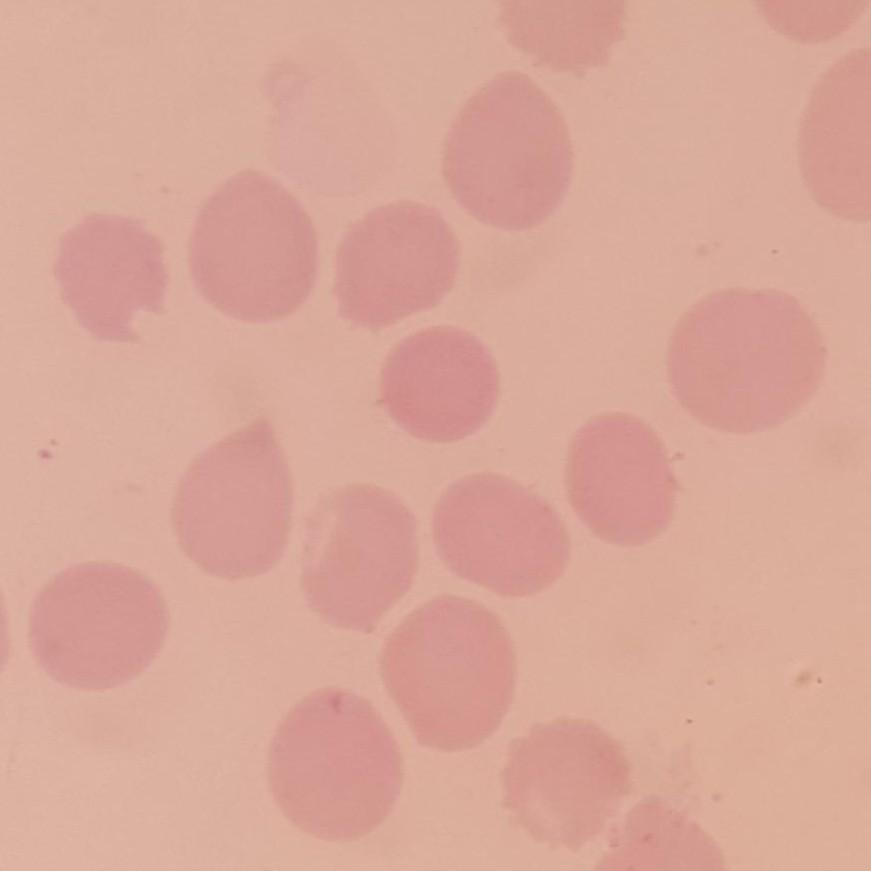Uninfected: (670, 285, 827, 432), (442, 69, 571, 232), (382, 597, 517, 752), (270, 683, 403, 840), (172, 411, 293, 576), (292, 487, 423, 637), (188, 169, 313, 316), (498, 717, 633, 849), (32, 565, 173, 690), (434, 471, 569, 596), (334, 201, 459, 332), (52, 215, 173, 346), (567, 409, 679, 544), (382, 329, 503, 440)
